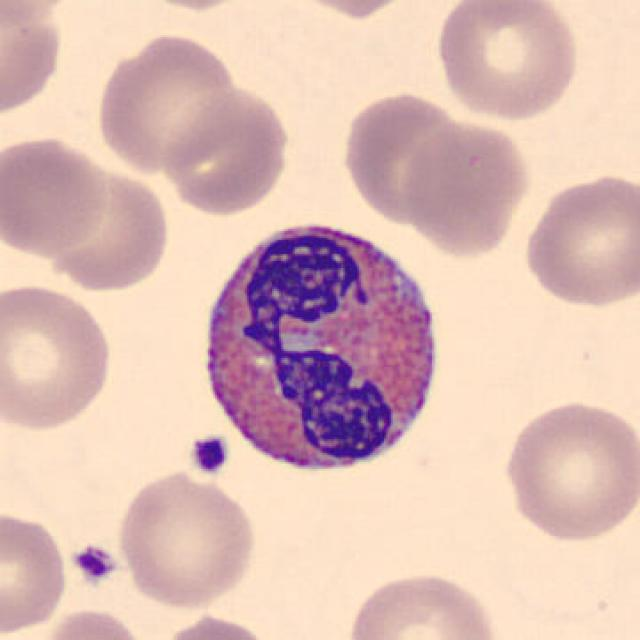Eosinophil: (192, 216, 448, 485)
Platelets: (69, 540, 121, 587), (187, 432, 231, 478)
RBC: (93, 28, 247, 175), (112, 467, 260, 612), (498, 395, 636, 545), (30, 155, 174, 295), (400, 116, 533, 260), (432, 0, 583, 123), (340, 88, 474, 226), (0, 280, 116, 434), (160, 83, 293, 217), (519, 170, 638, 310), (0, 132, 112, 259), (341, 566, 505, 640), (0, 506, 71, 638), (0, 0, 69, 127), (38, 604, 156, 640), (158, 612, 276, 640), (271, 0, 421, 19), (0, 0, 82, 28), (125, 0, 263, 14)
